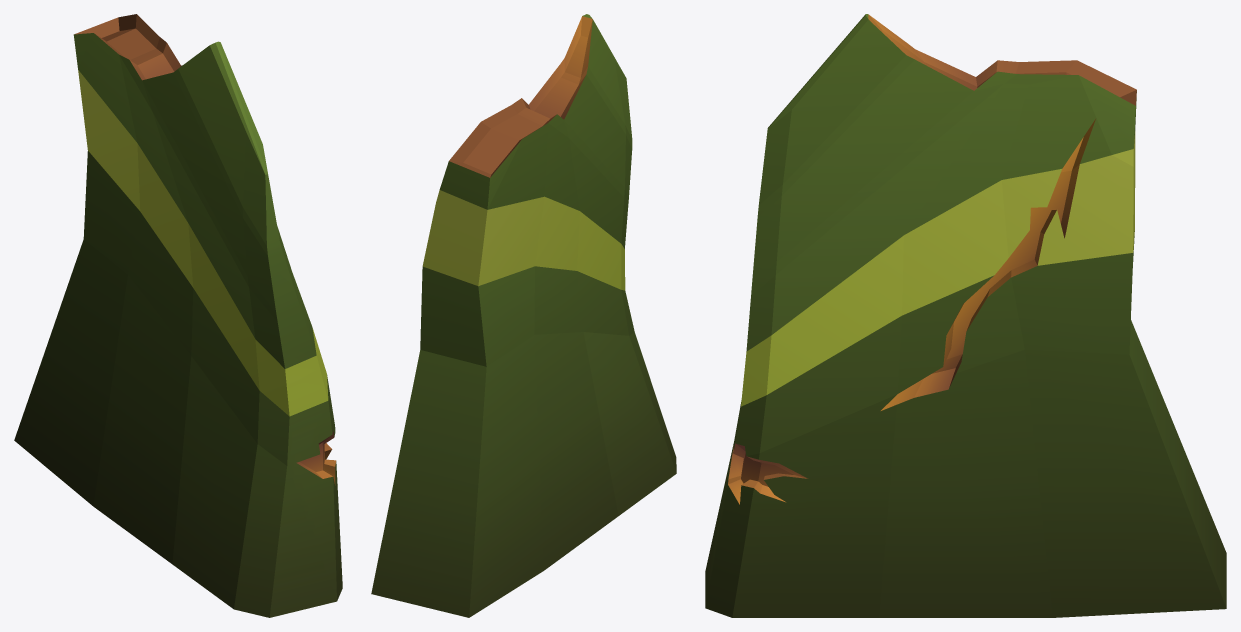
Rendered from SpacePart_asapartida01.fbx.
The picture shows the model from 3 angles, left to right: view 1: azimuth 30°, elevation 25°; view 2: azimuth 150°, elevation 25°; view 3: azimuth 270°, elevation 25°; orthographic projection. The views are drawn at different scales.
Visible parts, largest first — view 1: asapartida01; view 2: asapartida01; view 3: asapartida01.
Part boxes in pixels (x1,y1,x2,y2): asapartida01: (14,14,342,617); asapartida01: (371,14,676,617); asapartida01: (705,14,1226,617).
Size of the model in its own units: 569 by 2599 by 2161.
